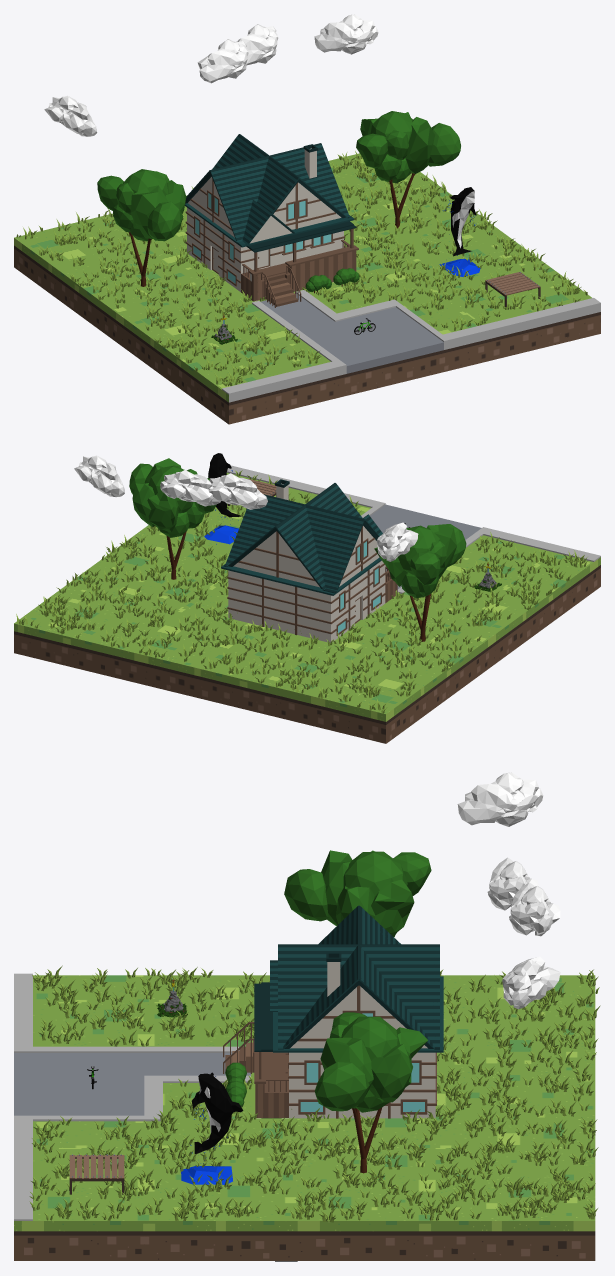
The picture shows the model from 3 angles, top to bottom: view 1: azimuth 30°, elevation 25°; view 2: azimuth 150°, elevation 25°; view 3: azimuth 270°, elevation 25°; orthographic projection. The views are drawn at different scales.
Parts seen in each view (by area): view 1: Cube.006, Cube.793, Circle.012_Grass_0.192, Cube.007, tree, tree.001, ANIMAL_ORCA, Cube.009; view 2: Cube.006, Cube.793, Circle.012_Grass_0.192, Cube.007, tree.001, tree, ANIMAL_ORCA; view 3: Cube.006, Circle.012_Grass_0.192, Cube.793, tree, Cube.007, tree.001, ANIMAL_ORCA, Cube.009.
Boxes of the visible parts, left/top/right/bottom form: Cube.006: left=14, top=153, right=600, bottom=424; Cube.793: left=185, top=134, right=358, bottom=307; Circle.012_Grass_0.192: left=16, top=151, right=587, bottom=386; Cube.007: left=44, top=14, right=378, bottom=136; tree: left=356, top=111, right=460, bottom=228; tree.001: left=97, top=169, right=186, bottom=286; ANIMAL_ORCA: left=439, top=187, right=480, bottom=276; Cube.009: left=485, top=272, right=540, bottom=306; Cube.006: left=14, top=465, right=600, bottom=743; Cube.793: left=221, top=479, right=397, bottom=642; Circle.012_Grass_0.192: left=16, top=470, right=587, bottom=713; Cube.007: left=74, top=455, right=418, bottom=561; tree.001: left=374, top=524, right=466, bottom=641; tree: left=129, top=458, right=216, bottom=579; ANIMAL_ORCA: left=204, top=453, right=243, bottom=544; Cube.006: left=14, top=973, right=595, bottom=1260; Circle.012_Grass_0.192: left=29, top=965, right=600, bottom=1222; Cube.793: left=223, top=905, right=443, bottom=1118; tree: left=314, top=1012, right=427, bottom=1173; Cube.007: left=457, top=772, right=560, bottom=1009; tree.001: left=284, top=850, right=431, bottom=937; ANIMAL_ORCA: left=181, top=1072, right=243, bottom=1184; Cube.009: left=69, top=1154, right=124, bottom=1194.
Size of the model in its own units: 4071 by 2184 by 4040.
31 materials, 4 textured.
